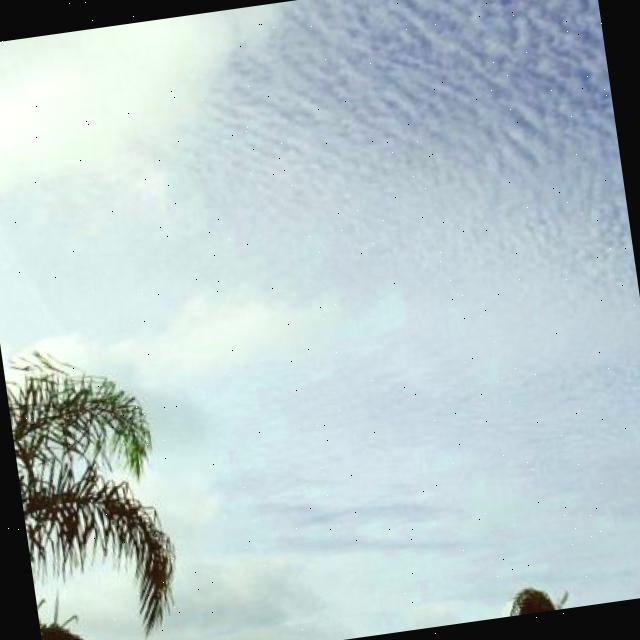Cc: (1, 1, 633, 332)
